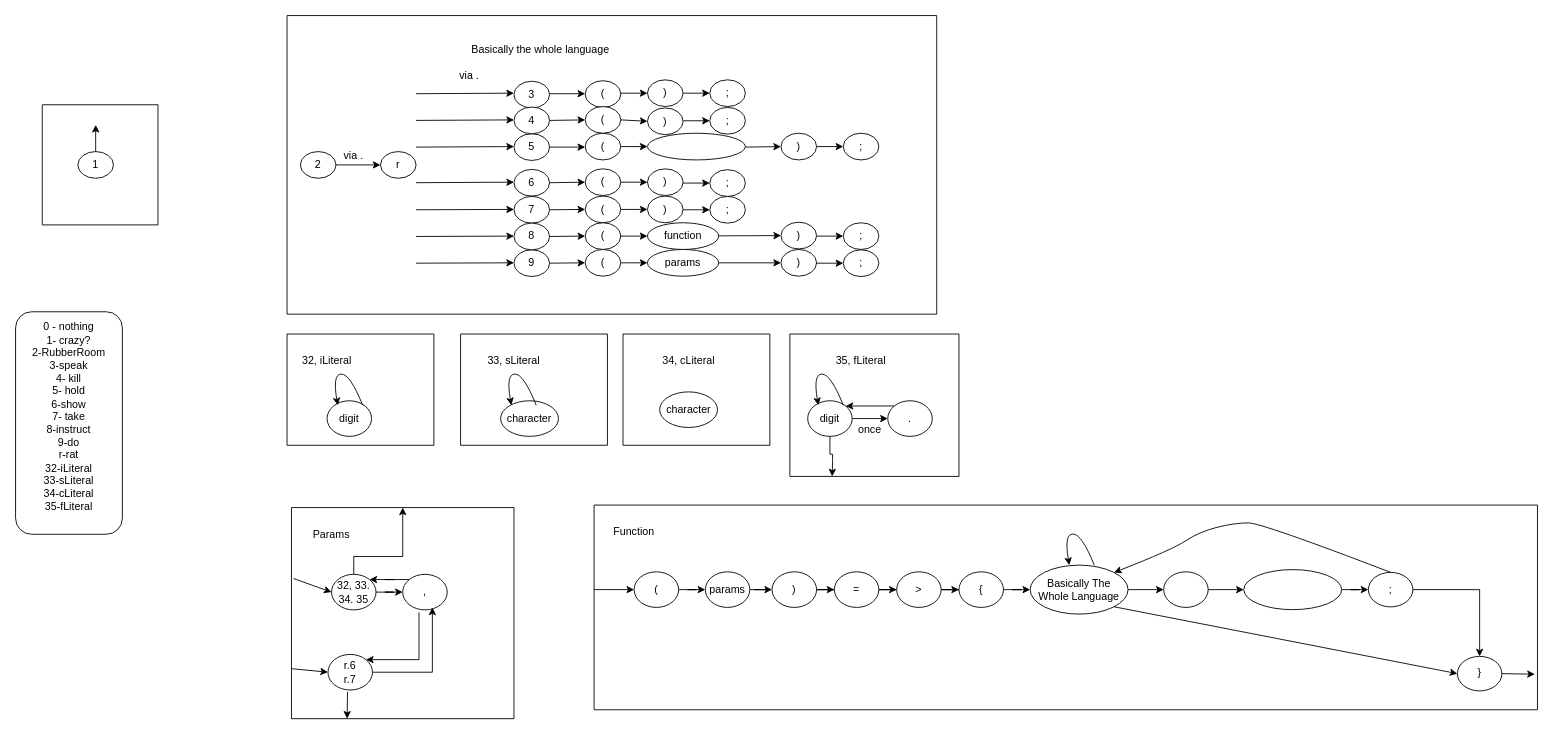
This 1558x741 diagram has some shape labels left out. Each missing label, with the centre of its shape:
"32,33,34,35, 2.r.6" belongs at point 696,146.
"32,33,34,35, r.6, r.7" belongs at point 1292,589.
"return" belongs at point 1185,589.
